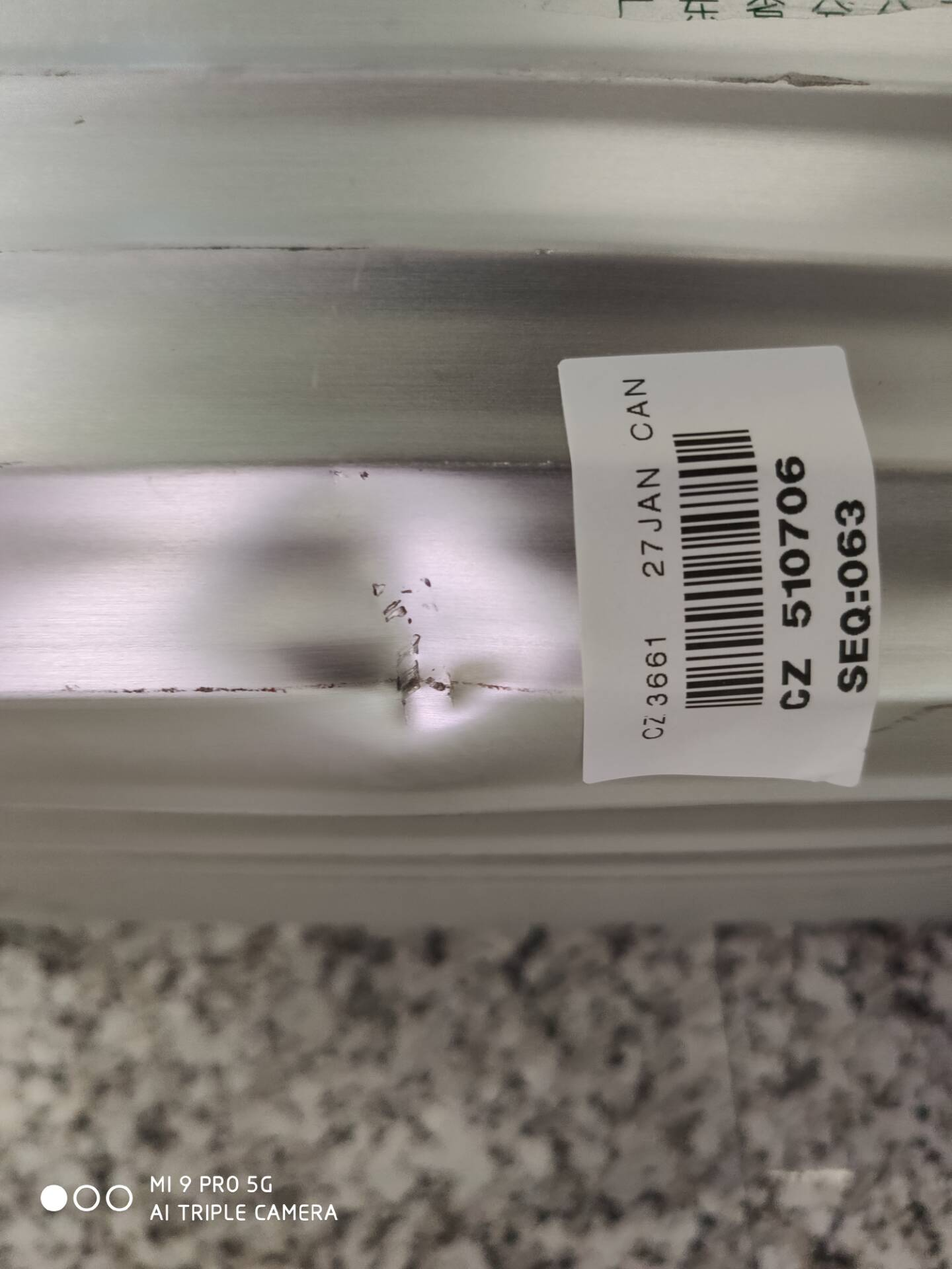rupture: (235, 479, 573, 788)
